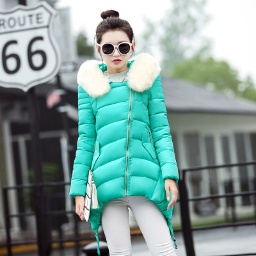face: (89, 7, 148, 81)
